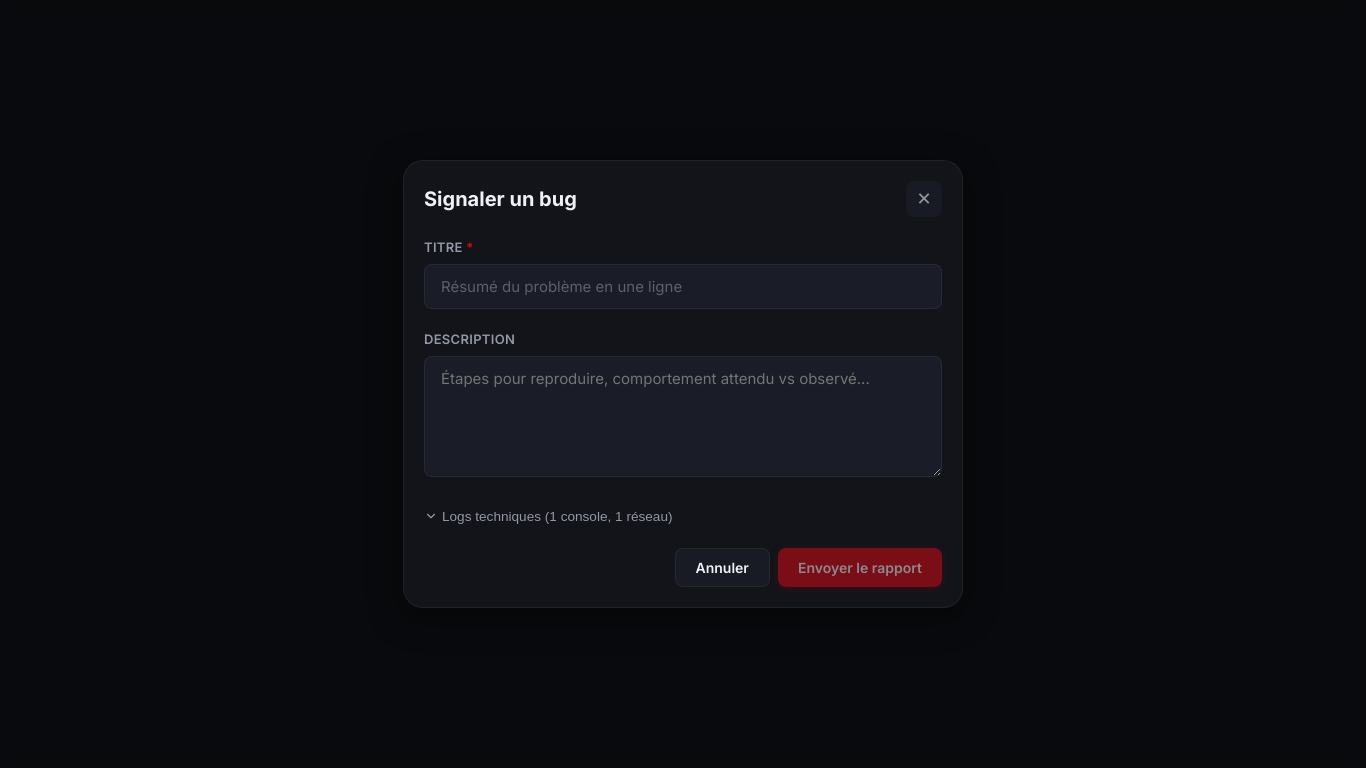
Test: BugReportModal — soumission › affiche "Rapport envoyé !" après une soumission réussie
Type "Crash au démarrage" into the field labelled "Titre *".
click(683, 287); type("Crash au démarrage")  # box [424,264,942,309]
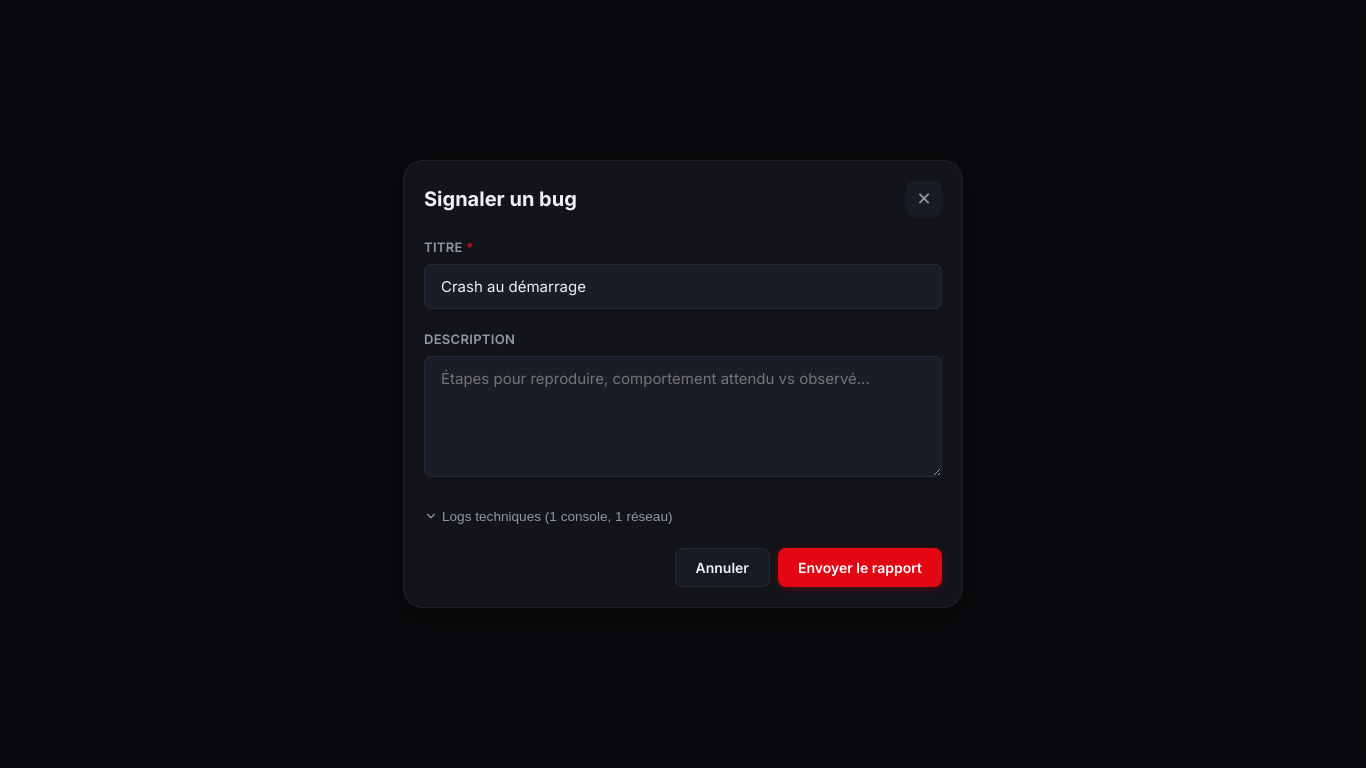
Click the button "Envoyer le rapport".
click(860, 567)  # box [778,548,942,587]
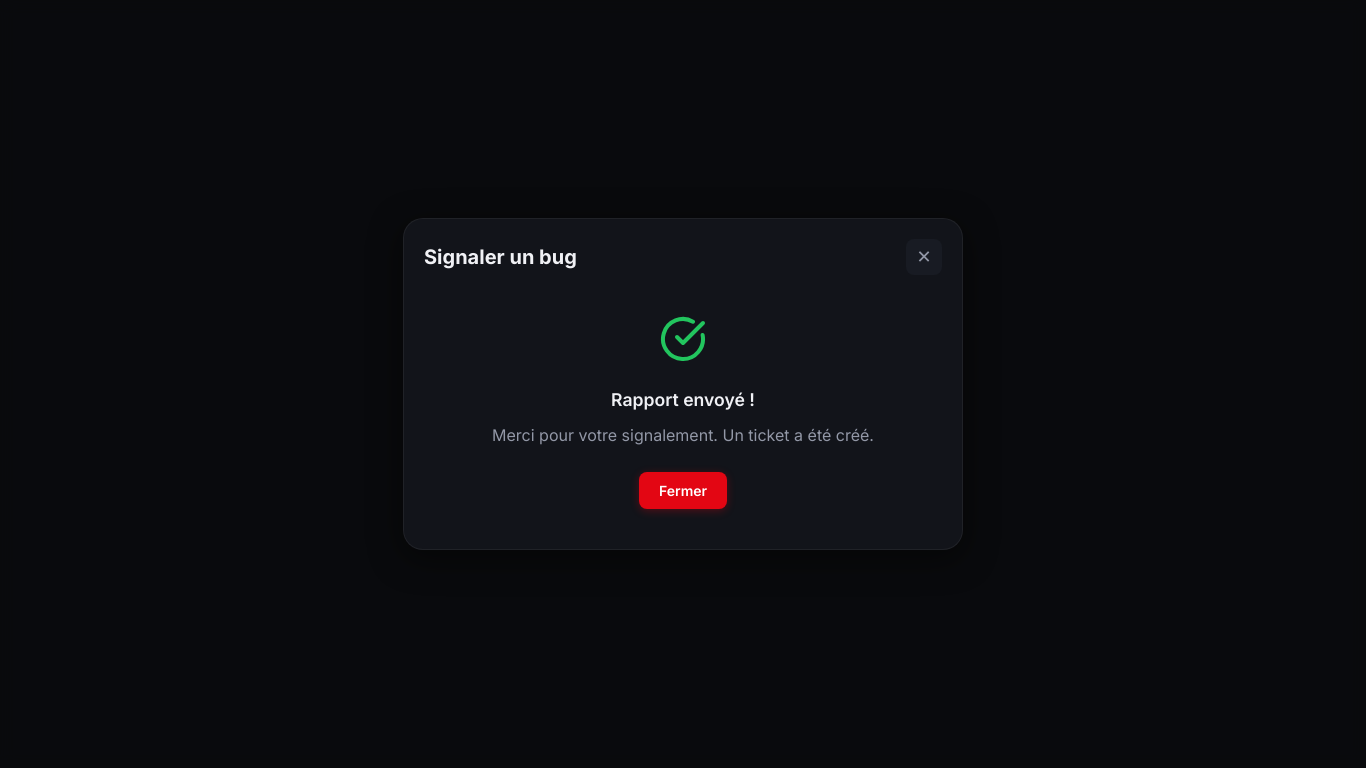
Now the text "Rapport envoyé !" is shown, box [611,389,755,410]
